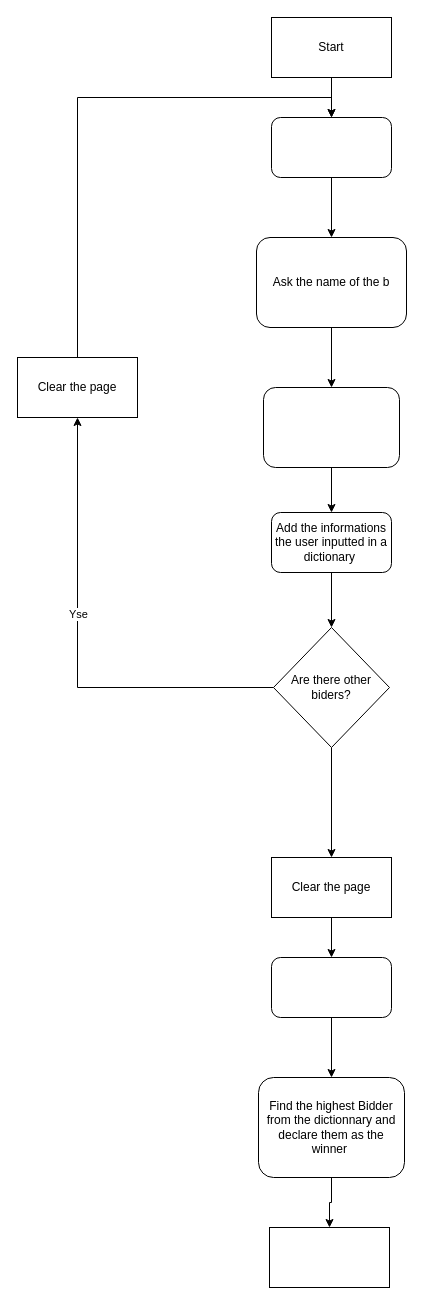
Image size: 424x1305. Some labels were removed from this diagram. The shapes that lost their labels are listed below. From the top down, each one's centre as x and y in pixels, then its label:
(x=331, y=147): Add the logo
(x=331, y=427): Ask the amount to bid
(x=331, y=987): Delay for 5 seconds
(x=329, y=1257): End
